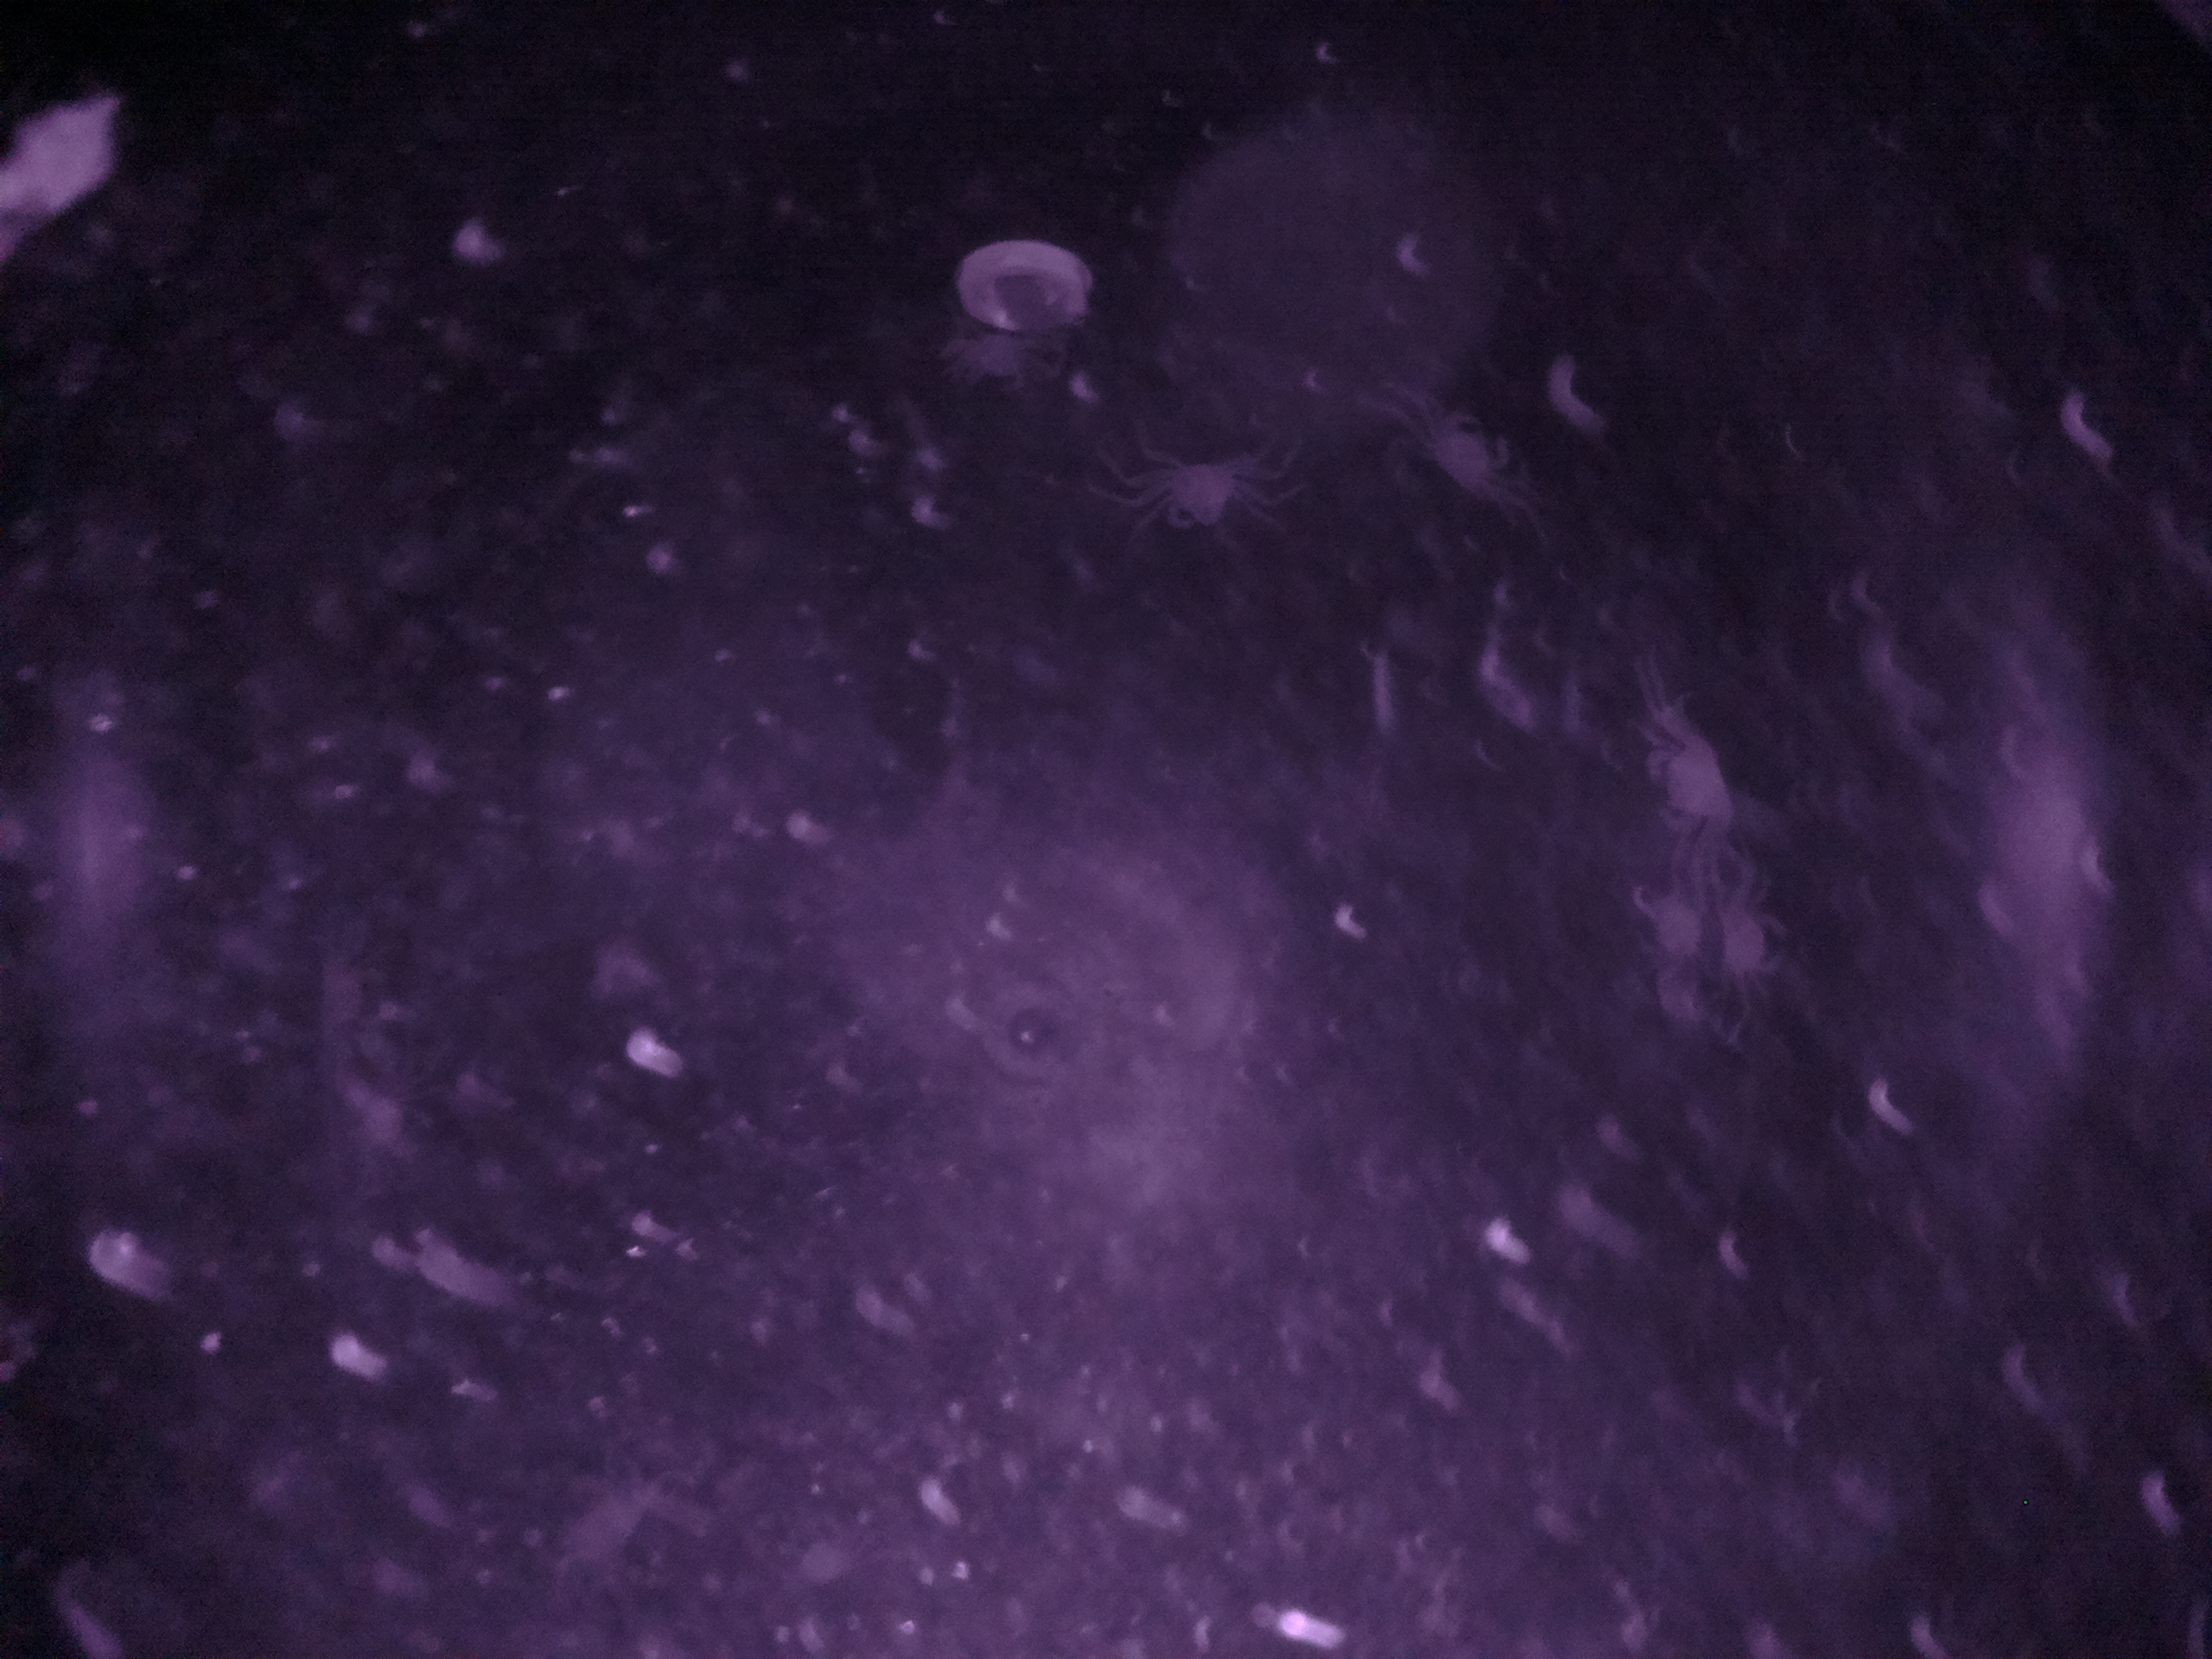Crab: (1129, 437, 1275, 551)
